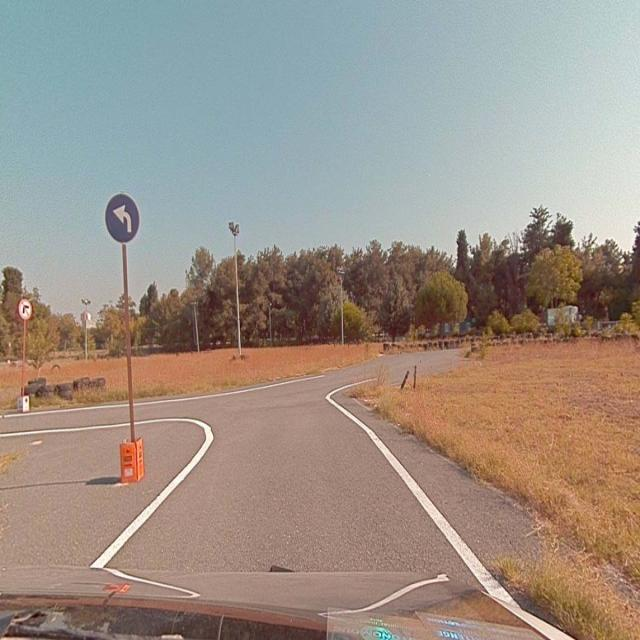sagadonulmez: (18, 298, 32, 320)
sol: (105, 192, 139, 242)
